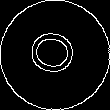O_E: (25, 29, 85, 81)
